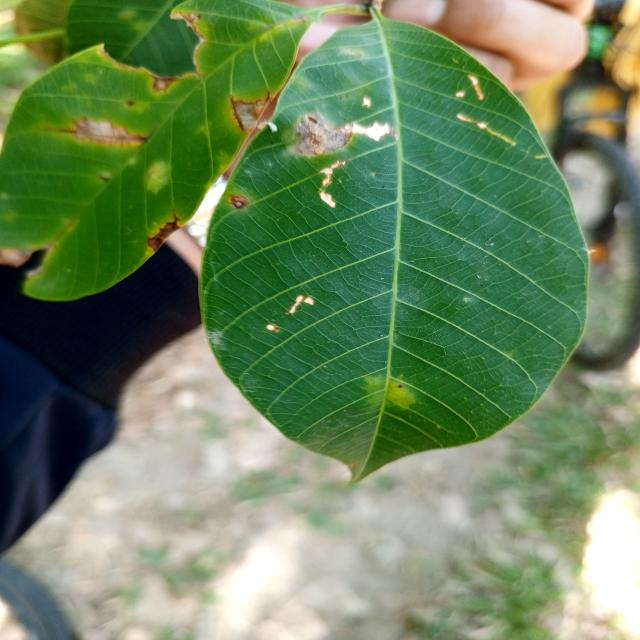Corynespora: (230, 97, 243, 132)
Leaf-Blight: (238, 98, 274, 131), (147, 222, 181, 252), (353, 121, 390, 142), (319, 160, 346, 186), (320, 191, 336, 208), (290, 294, 303, 312), (304, 296, 314, 305)
